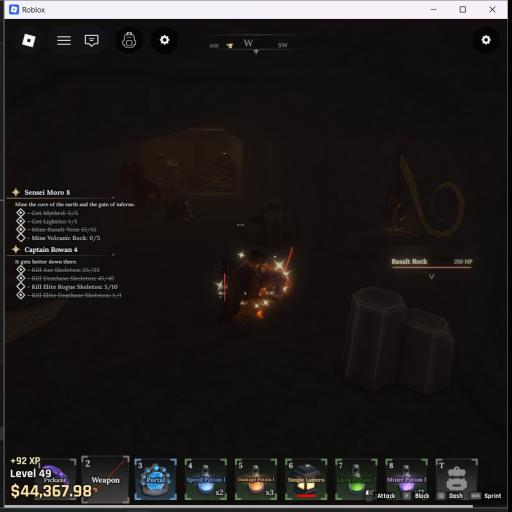player: (211, 248, 293, 322)
rock: (342, 287, 454, 393), (244, 200, 296, 246)
